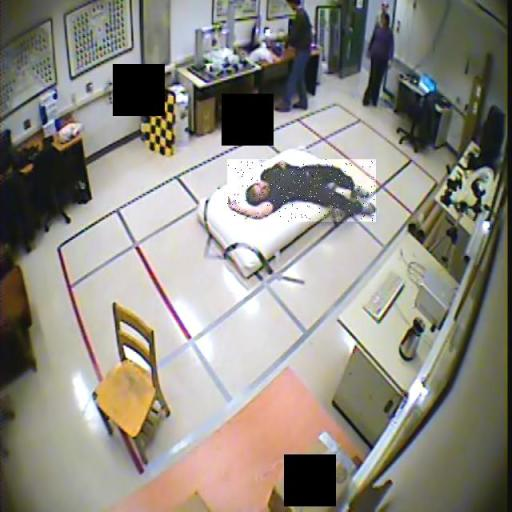Fall: (227, 159, 376, 222)
